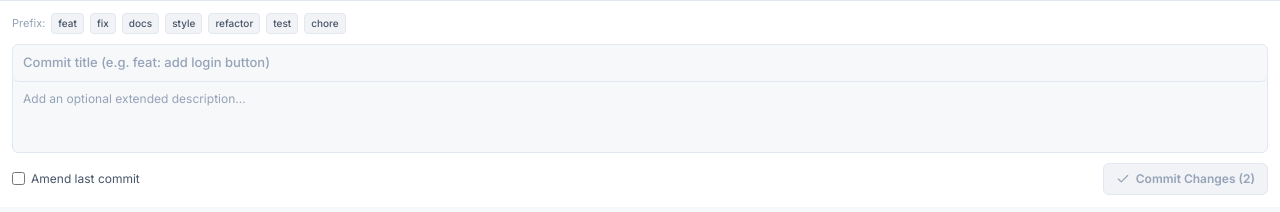
it: CommitBox › replaces an existing conventional prefix instead of stacking it
Type "fix(ui): align button" into the field with placeholder "Commit title (e.g. feat: add login button)". click: (640, 63)
box: [13,45,1267,82]
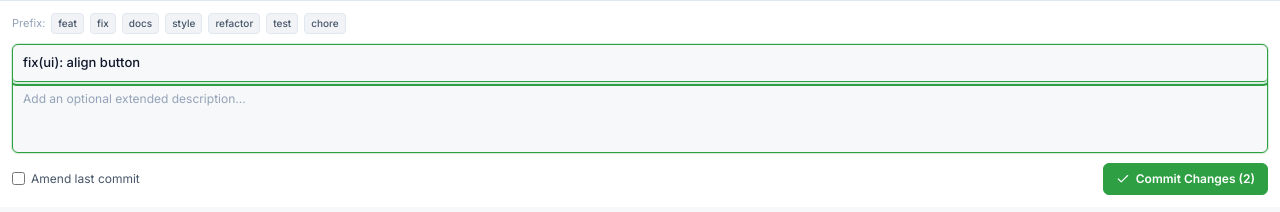
Click the button "feat". click: (68, 24)
box: [51,13,84,34]
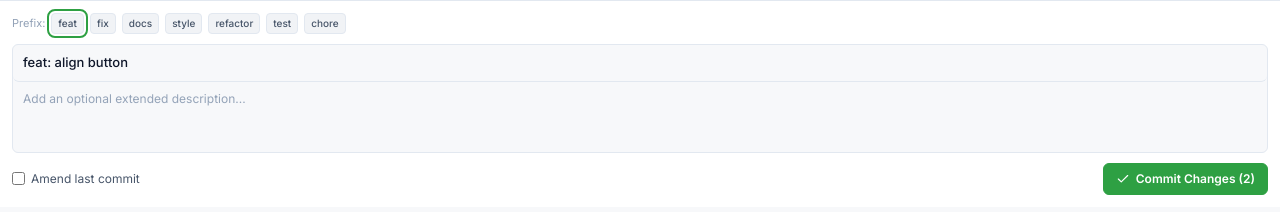
Check: the field with placeholder "Commit title (e.g. feat: add login button)" holds "feat: align button", box [13,45,1267,82]
